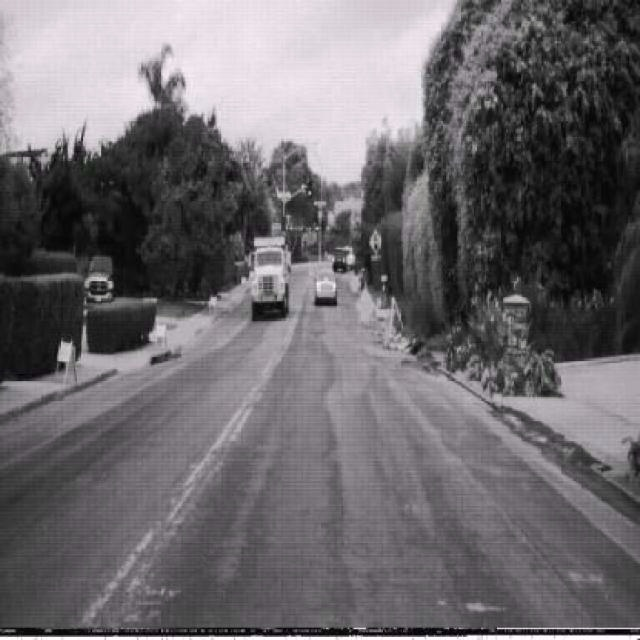signalAhead: (368, 226, 382, 253)
